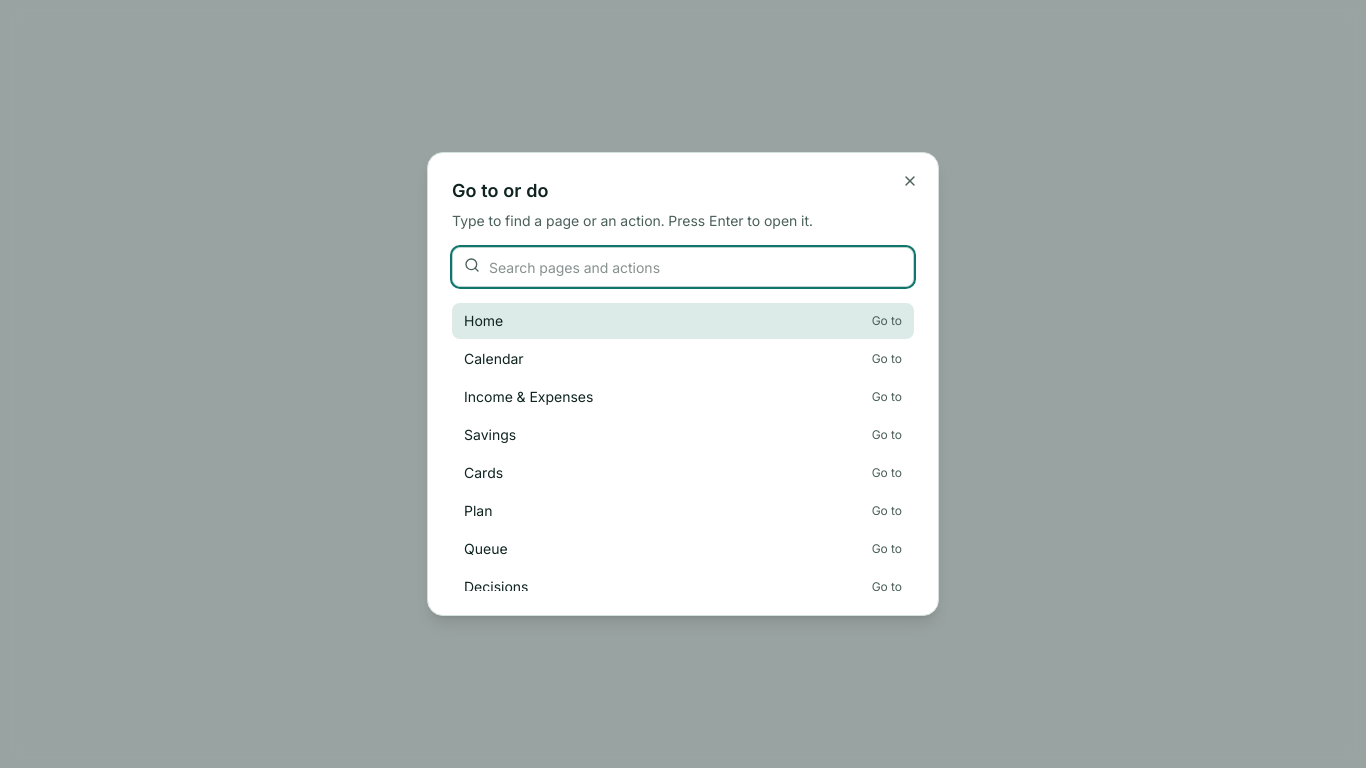
Test: CommandPalette › says when nothing matches
The image size is (1366, 768).
Type "zzzzz" into the dropdown labelled "Search pages and actions" at (683, 267), box [452,247,914,287]
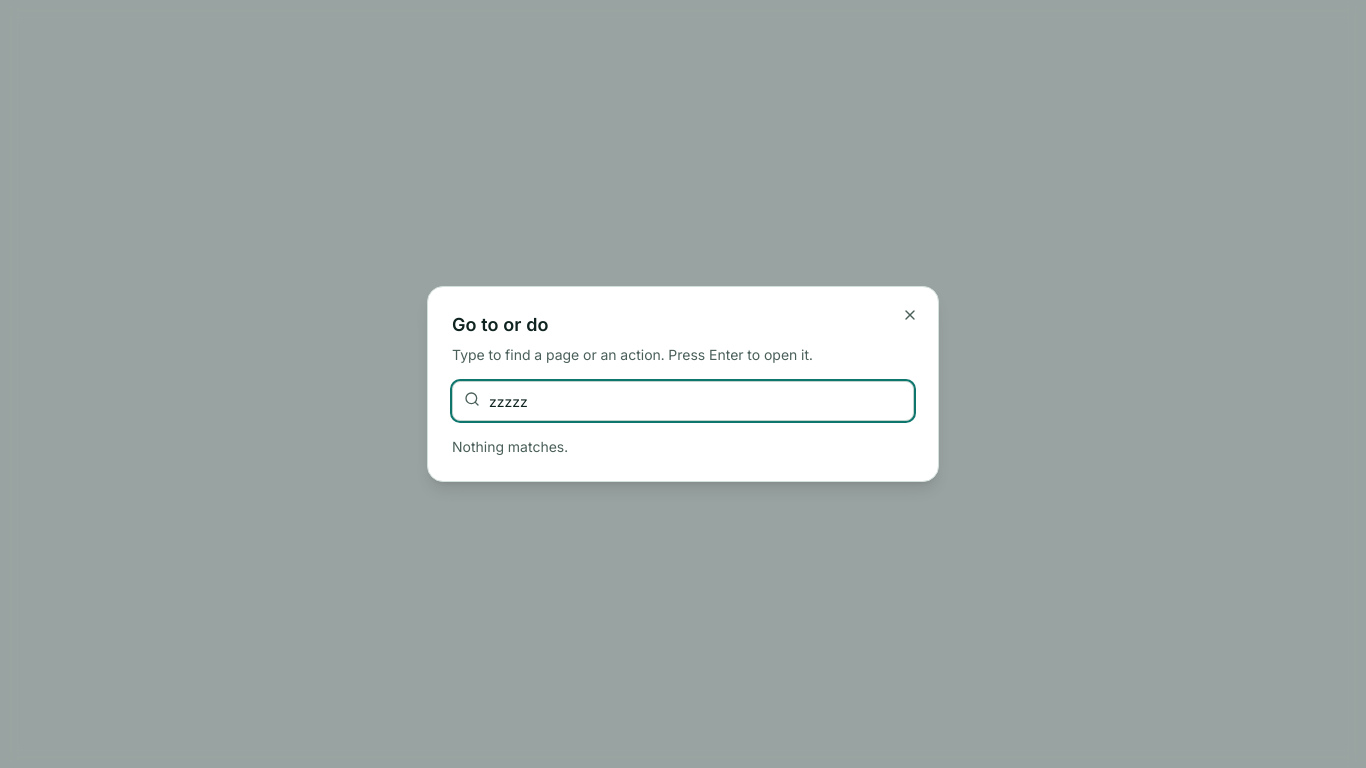
Check: the text "Nothing matches." is shown, box [452,438,568,455]
Check: the option is gone
